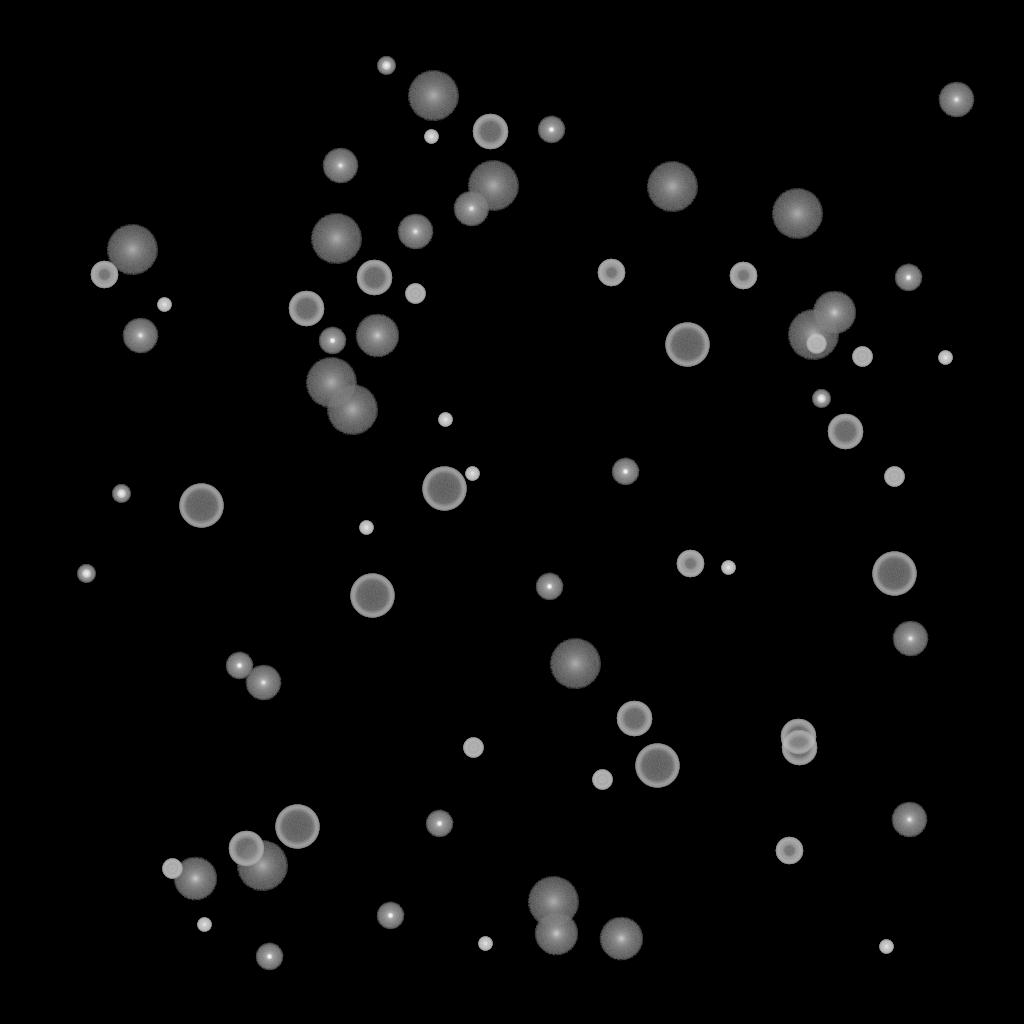depth:-10: (425, 810, 453, 838), (376, 902, 404, 930), (255, 943, 283, 971), (894, 264, 922, 292), (225, 652, 253, 680), (537, 116, 565, 144), (535, 573, 563, 601), (318, 327, 346, 355), (611, 458, 639, 486)
depth:-20: (812, 390, 830, 408), (77, 565, 95, 583), (112, 485, 130, 503), (377, 57, 395, 75)
depth:-30: (879, 940, 893, 954), (438, 413, 452, 427), (424, 130, 438, 144), (721, 561, 735, 575), (465, 467, 479, 481), (478, 937, 492, 951), (359, 521, 373, 535), (938, 351, 952, 365), (197, 918, 211, 932), (157, 298, 171, 312)
depth:-40: (806, 334, 826, 354), (463, 738, 483, 758), (405, 284, 425, 304), (592, 770, 612, 790), (884, 467, 904, 487), (852, 347, 872, 367), (162, 859, 182, 879)
depth:-50: (676, 550, 704, 578), (90, 261, 118, 289), (729, 262, 757, 290), (597, 259, 625, 287), (775, 837, 803, 865)
depth:-60: (780, 719, 816, 755), (228, 831, 264, 867), (781, 730, 817, 766), (288, 291, 324, 327), (472, 114, 508, 150), (356, 260, 392, 296), (827, 414, 863, 450), (616, 701, 652, 737)
depth:-70: (179, 484, 223, 528), (665, 323, 709, 367), (635, 744, 679, 788), (275, 805, 319, 849), (872, 552, 916, 596), (350, 574, 394, 618), (422, 467, 466, 511)
depth:0: (245, 665, 281, 701), (322, 148, 358, 184), (891, 802, 927, 838), (453, 191, 489, 227), (122, 318, 158, 354), (938, 82, 974, 118), (892, 621, 928, 657), (397, 214, 433, 250)
depth:10: (534, 912, 578, 956), (812, 291, 856, 335), (599, 917, 643, 961), (355, 314, 399, 358), (173, 857, 217, 901)
depth:20: (771, 189, 823, 239), (236, 841, 288, 891), (467, 161, 519, 211), (310, 214, 362, 264), (305, 358, 357, 408), (549, 639, 601, 689), (527, 877, 579, 927), (407, 71, 459, 121), (646, 162, 698, 212), (106, 225, 158, 275), (787, 310, 839, 360), (326, 385, 378, 435)
